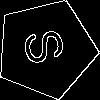S: (21, 24, 76, 67)
